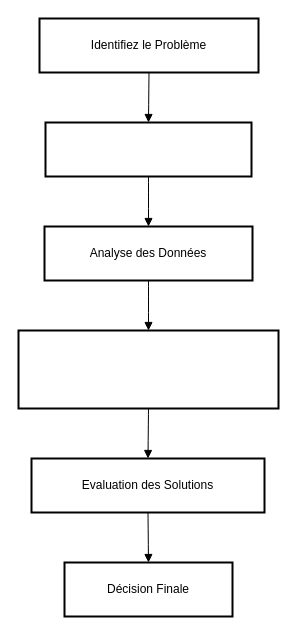
Some shapes in this 296 by 634 pixel diagram are drawn without their labels. Each missing label, with the centre of its shape:
Collecte de Données: point (148, 149)
Développement de Solutions: point (148, 369)
